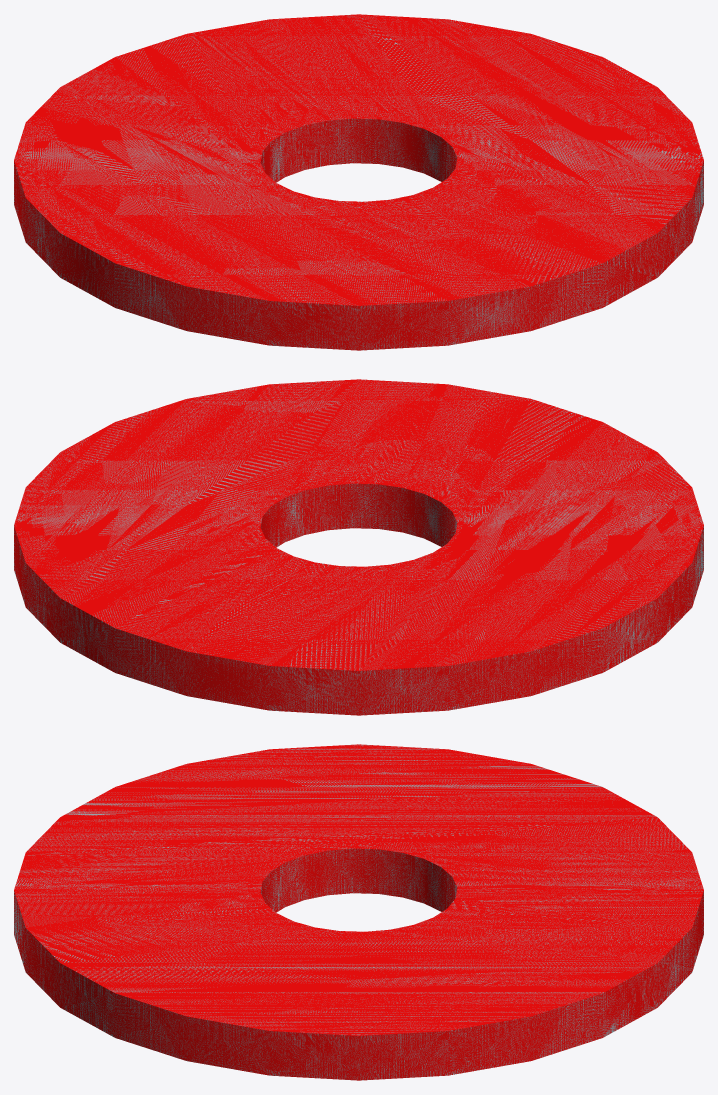
Rendered from disco_2.fbx.
The picture shows the model from 3 angles, top to bottom: view 1: azimuth 30°, elevation 25°; view 2: azimuth 150°, elevation 25°; view 3: azimuth 270°, elevation 25°; orthographic projection.
Visible parts, largest first — view 1: Model; view 2: Model; view 3: Model.
Boxes of the visible parts, left/top/right/bottom form: Model: left=14, top=14, right=703, bottom=350; Model: left=14, top=379, right=703, bottom=715; Model: left=14, top=744, right=703, bottom=1080.
Size of the model in its own units: 2.8 by 0.2 by 2.8.
